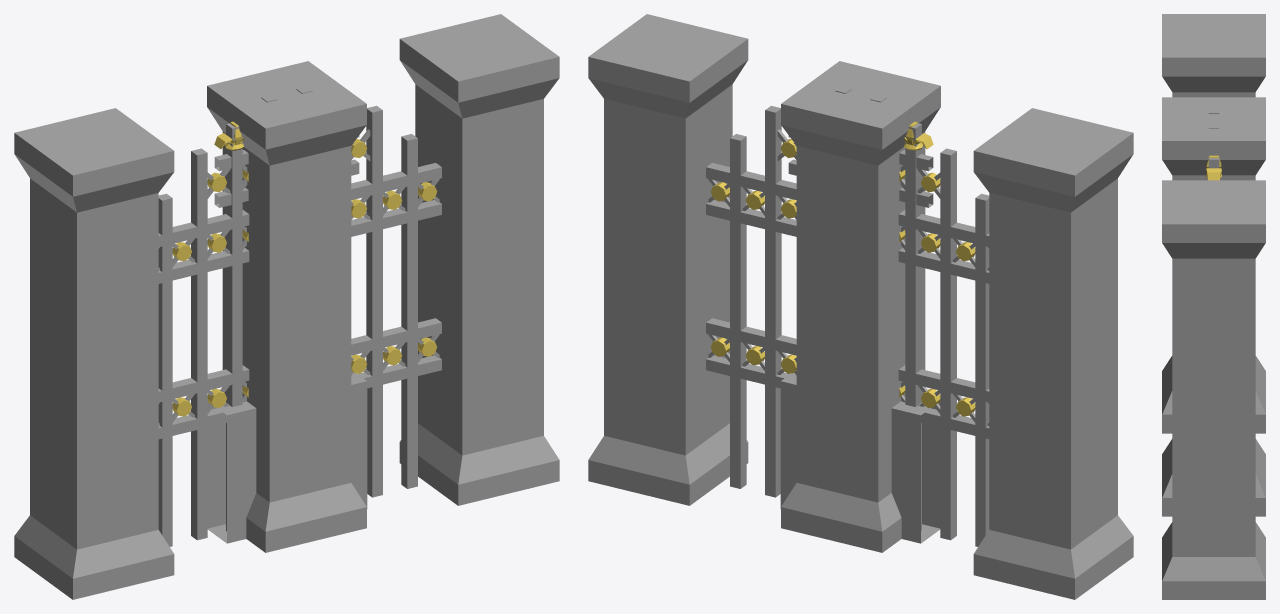
File: fence.fbx
The picture shows the model from 3 angles, left to right: view 1: azimuth 30°, elevation 25°; view 2: azimuth 150°, elevation 25°; view 3: azimuth 270°, elevation 25°; orthographic projection. The views are drawn at different scales.
Parts seen in each view (by area): view 1: Pillar_Left, Pillar_Right, Pillar, Gate_Left, Gate_Right, Neither_side, One_side, Both_sides; view 2: Pillar_Left, Pillar_Right, Pillar, Gate_Right, Gate_Left, Neither_side, One_side, Both_sides; view 3: Pillar_Right, Pillar_Left, Pillar, One_side, Gate_Right.
Part boxes in pixels (x1,y1,x2,y2): Pillar_Left: (14, 108, 174, 599); Pillar_Right: (399, 14, 559, 505); Pillar: (207, 61, 366, 552); Gate_Left: (158, 94, 277, 546); Gate_Right: (296, 86, 441, 497); Neither_side: (207, 121, 367, 543); One_side: (207, 124, 369, 543); Both_sides: (207, 122, 370, 531); Pillar_Left: (973, 108, 1133, 599); Pillar_Right: (588, 14, 748, 505); Pillar: (781, 61, 940, 552); Gate_Right: (706, 86, 851, 497); Gate_Left: (870, 94, 989, 546); Neither_side: (780, 121, 940, 543); One_side: (777, 122, 940, 543); Both_sides: (777, 129, 940, 531); Pillar_Right: (1162, 180, 1265, 599); Pillar_Left: (1162, 14, 1265, 433); Pillar: (1162, 97, 1265, 516); One_side: (1206, 155, 1221, 180); Gate_Right: (1208, 123, 1219, 168).
Size of the model in its own units: 13.89 by 11.6 by 2.89.
